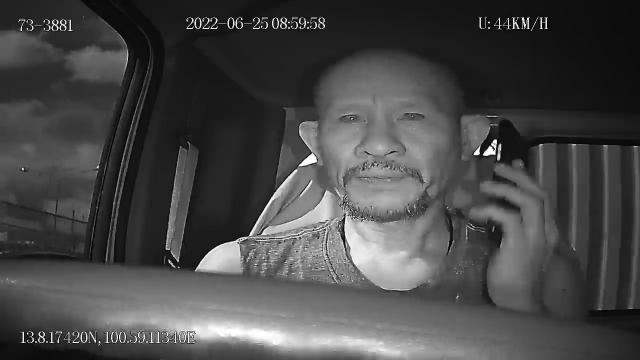PhoneUse: (492, 116, 534, 246)
SafeDriving: (388, 98, 434, 130), (328, 101, 371, 131)
